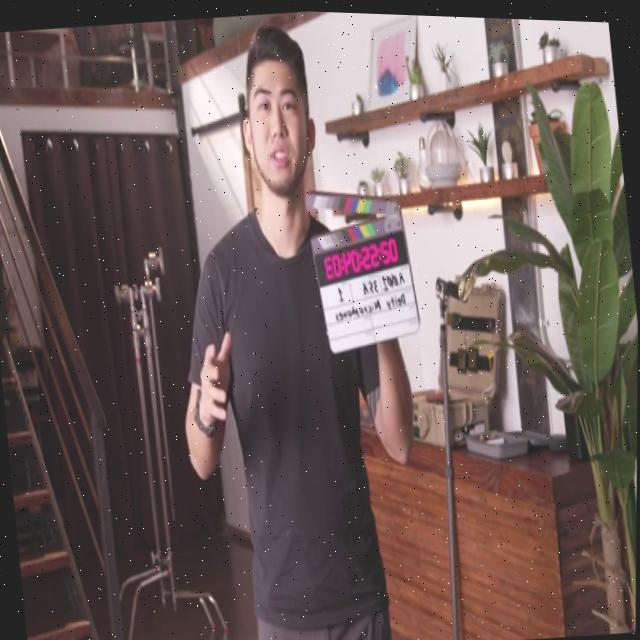Clapperboard: (302, 176, 426, 362)
